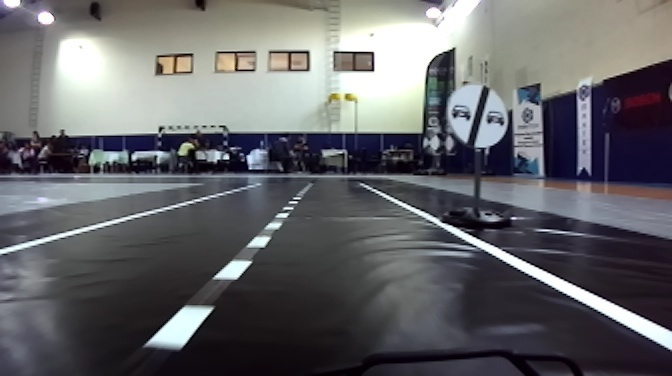sollama_serbest: (445, 84, 509, 151)
